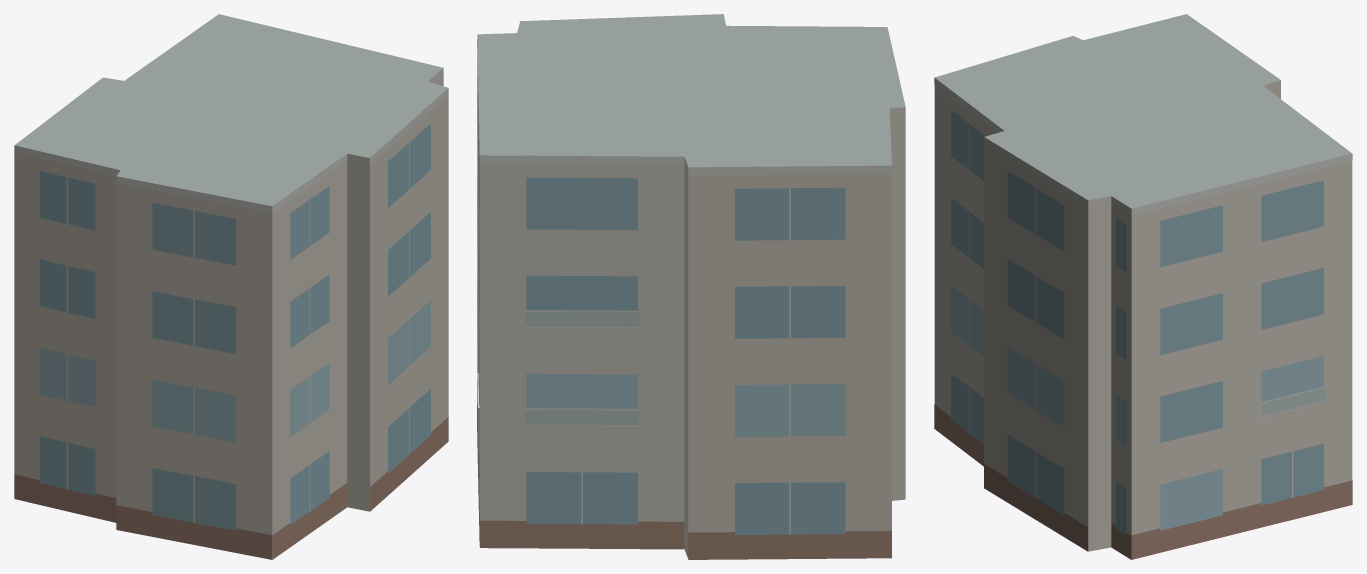
File: survey-upis-32644229.glb
3 renders of one model, left to right at view 1: azimuth 30°, elevation 25°; view 2: azimuth 150°, elevation 25°; view 3: azimuth 270°, elevation 25°, orthographic. The views are drawn at different scales.
Parts seen in each view (by area): view 1: survey-upis-32644229.tmp; view 2: survey-upis-32644229.tmp; view 3: survey-upis-32644229.tmp.
Part boxes in pixels (x1,y1,x2,y2): survey-upis-32644229.tmp: (14,14,448,559); survey-upis-32644229.tmp: (477,14,905,559); survey-upis-32644229.tmp: (934,14,1352,559).
Bounding box in the file's own units: 14.5 × 12.2 × 13.16.
